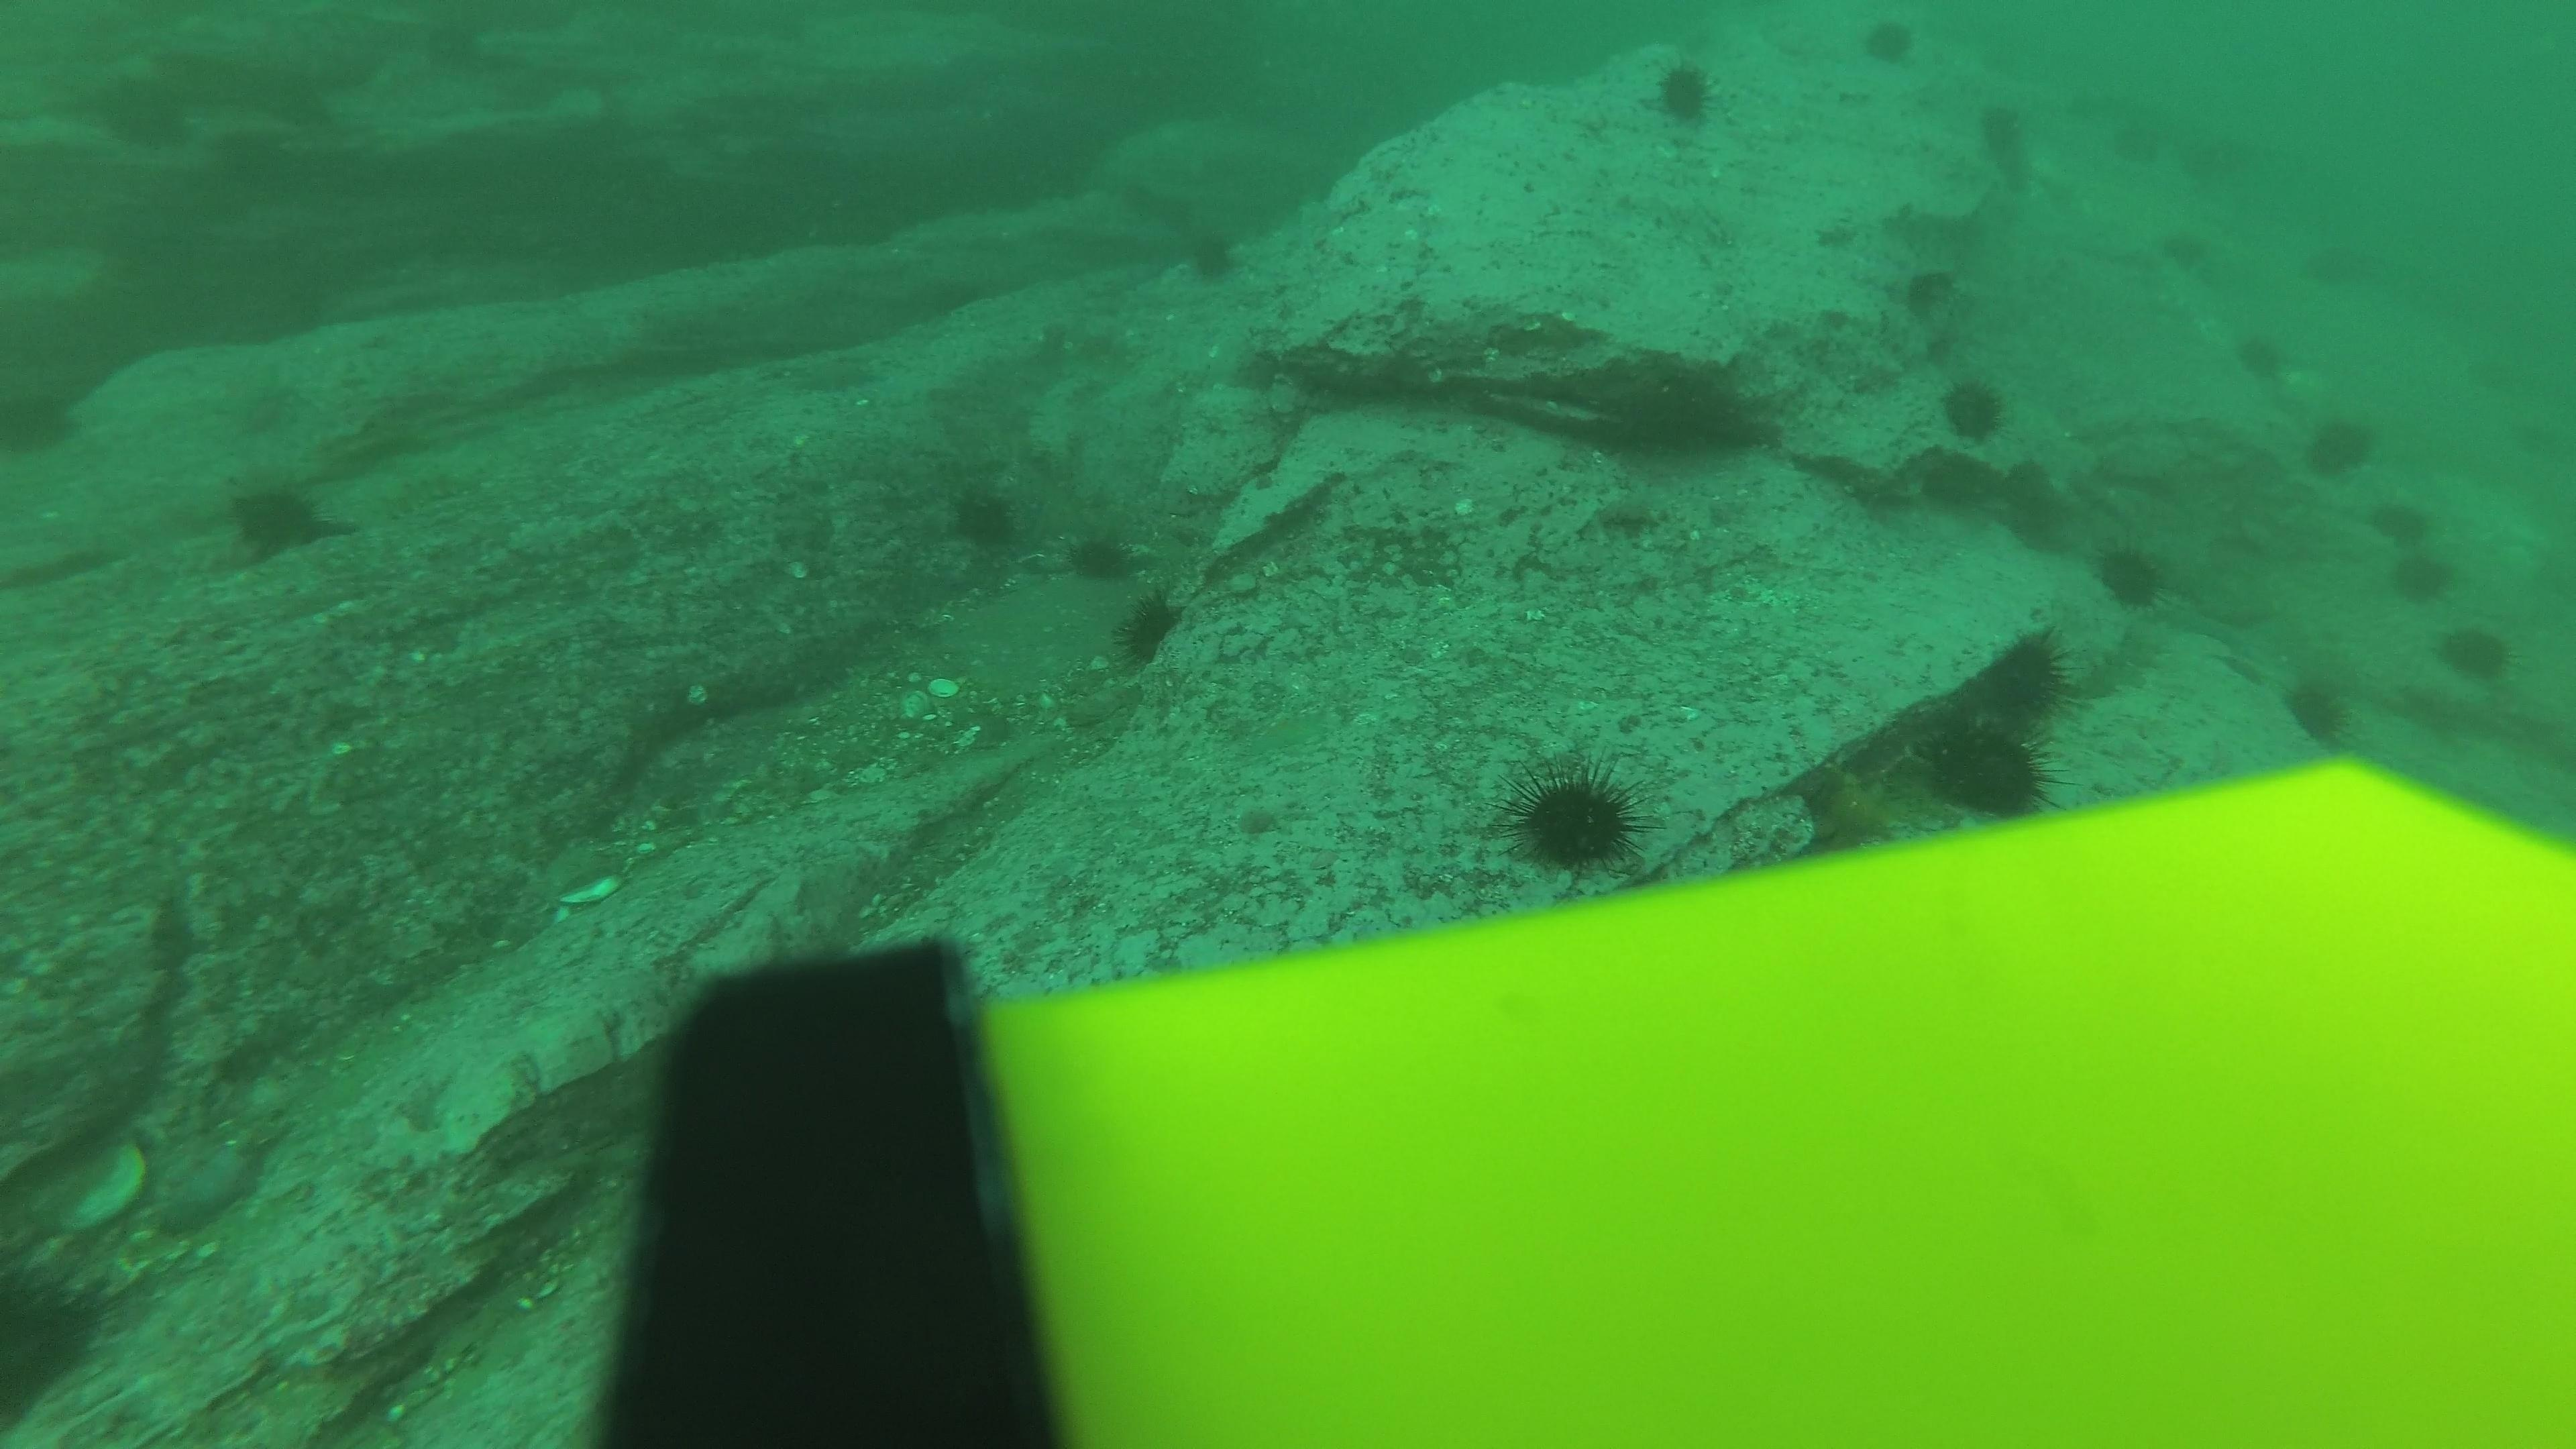echinus: (0, 1249, 111, 1424), (1504, 757, 1647, 878), (1918, 713, 2058, 821), (1955, 625, 2077, 732), (218, 471, 338, 566), (2369, 495, 2449, 587), (0, 377, 87, 460), (2089, 536, 2174, 614), (941, 478, 1026, 556), (1109, 589, 1189, 669), (1642, 55, 1725, 131), (2381, 527, 2459, 607), (1932, 370, 2013, 446), (2279, 669, 2357, 747), (2434, 617, 2518, 688), (2227, 327, 2307, 400), (2289, 228, 2369, 301), (2150, 212, 2229, 285), (2192, 110, 2272, 182), (2086, 106, 2166, 179), (2302, 409, 2380, 481), (1063, 522, 1138, 586), (1177, 219, 1246, 287), (1971, 96, 2036, 166), (1893, 260, 1960, 322), (1858, 14, 1920, 69)
starfish: (136, 1116, 264, 1233), (1794, 759, 1907, 853), (782, 343, 881, 400)
